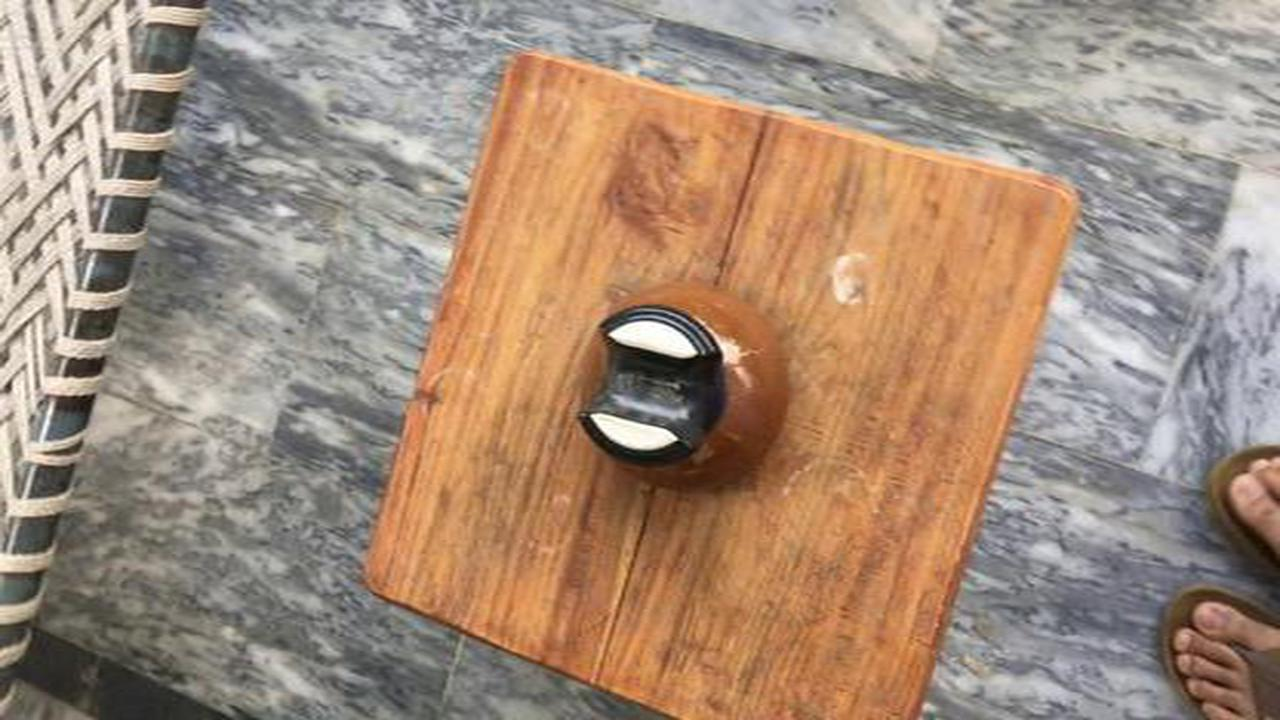insulator_pin: (557, 272, 810, 511)
